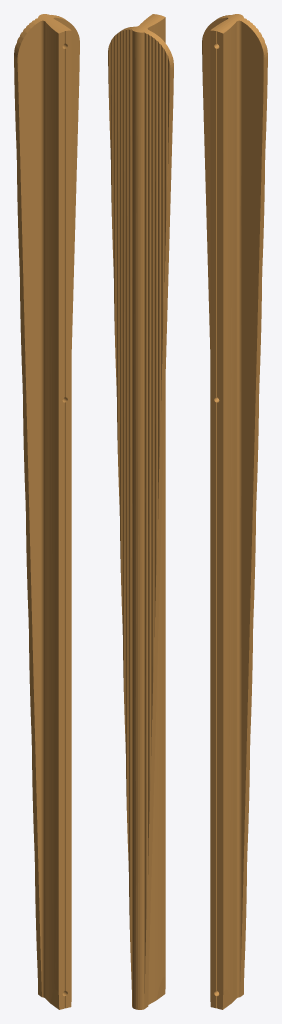
The model's file is toucans pvd gold.glb.
The picture shows the model from 3 angles, left to right: view 1: azimuth 30°, elevation 25°; view 2: azimuth 150°, elevation 25°; view 3: azimuth 330°, elevation 25°; orthographic projection.
Visible parts, largest first — view 1: CABINET_HANDLE_TOUCANS; view 2: CABINET_HANDLE_TOUCANS; view 3: CABINET_HANDLE_TOUCANS.
Boxes of the visible parts, x1,y1,x2,y2 form: CABINET_HANDLE_TOUCANS: (14, 14, 79, 1009); CABINET_HANDLE_TOUCANS: (108, 14, 173, 1009); CABINET_HANDLE_TOUCANS: (202, 14, 267, 1009).
Size of the model in its own units: 0.5438 by 8.11 by 0.35.
